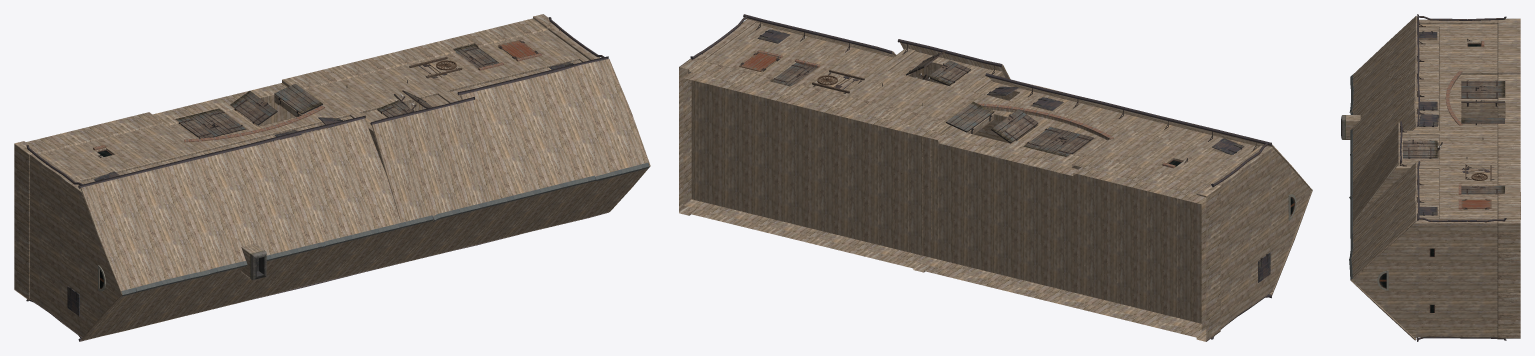
The model's file is hd_bld_EU_057_Shed_01B.fbx.
The picture shows the model from 3 angles, left to right: view 1: azimuth 30°, elevation 25°; view 2: azimuth 150°, elevation 25°; view 3: azimuth 270°, elevation 25°; orthographic projection. The views are drawn at different scales.
Parts seen in each view (by area): view 1: set_0_group_5, set_0_group_2, set_0_group_0, set_0_group_1, set_0_group_3; view 2: set_0_group_6, set_0_group_2, set_0_group_1, set_0_group_0, set_0_group_3, set_0_group_5; view 3: set_0_group_2, set_0_group_5, set_0_group_1, set_0_group_0, set_0_group_3.
Boxes of the visible parts, x1=… form: set_0_group_5: x1=80, y1=59, x2=650, y2=340; set_0_group_2: x1=30, y1=26, x2=599, y2=337; set_0_group_0: x1=26, y1=17, x2=649, y2=341; set_0_group_1: x1=14, y1=14, x2=557, y2=300; set_0_group_3: x1=82, y1=60, x2=581, y2=183; set_0_group_6: x1=688, y1=69, x2=1206, y2=323; set_0_group_2: x1=696, y1=19, x2=1311, y2=328; set_0_group_1: x1=679, y1=57, x2=1220, y2=341; set_0_group_0: x1=690, y1=14, x2=1312, y2=339; set_0_group_3: x1=748, y1=25, x2=1258, y2=157; set_0_group_5: x1=746, y1=18, x2=1312, y2=295; set_0_group_2: x1=1346, y1=19, x2=1497, y2=337; set_0_group_5: x1=1350, y1=16, x2=1417, y2=340; set_0_group_1: x1=1497, y1=18, x2=1520, y2=338; set_0_group_0: x1=1341, y1=14, x2=1506, y2=341; set_0_group_3: x1=1399, y1=27, x2=1438, y2=218.
Size of the model in its own units: 2226 by 653 by 826.
6 materials, 6 textured.
